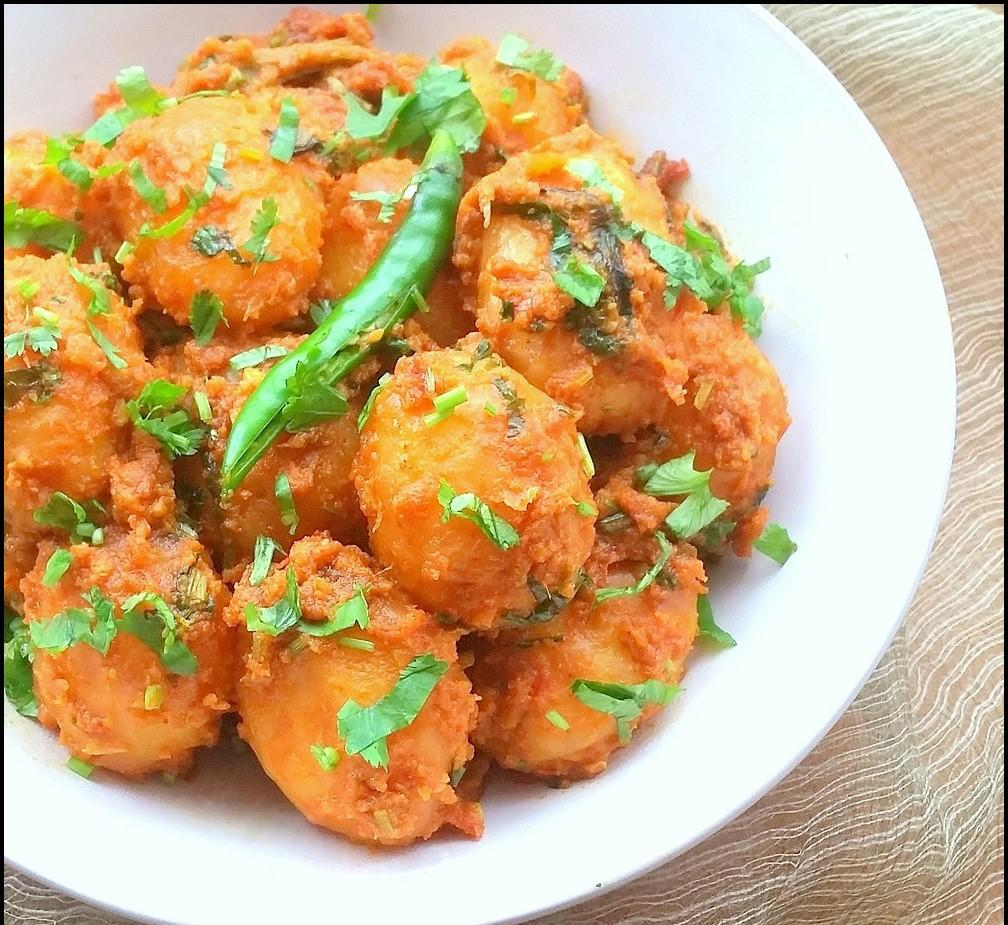DumAloo: (6, 4, 796, 850)
